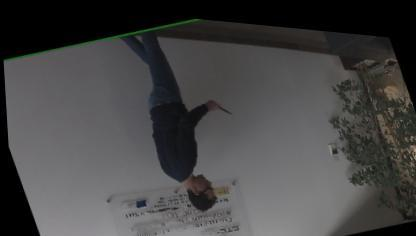knife: (210, 91, 233, 114)
